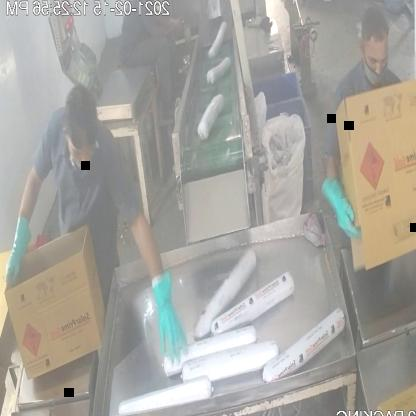glove: (314, 168, 366, 252), (150, 262, 185, 370), (0, 206, 36, 299)
no_glove: (150, 7, 192, 52)
